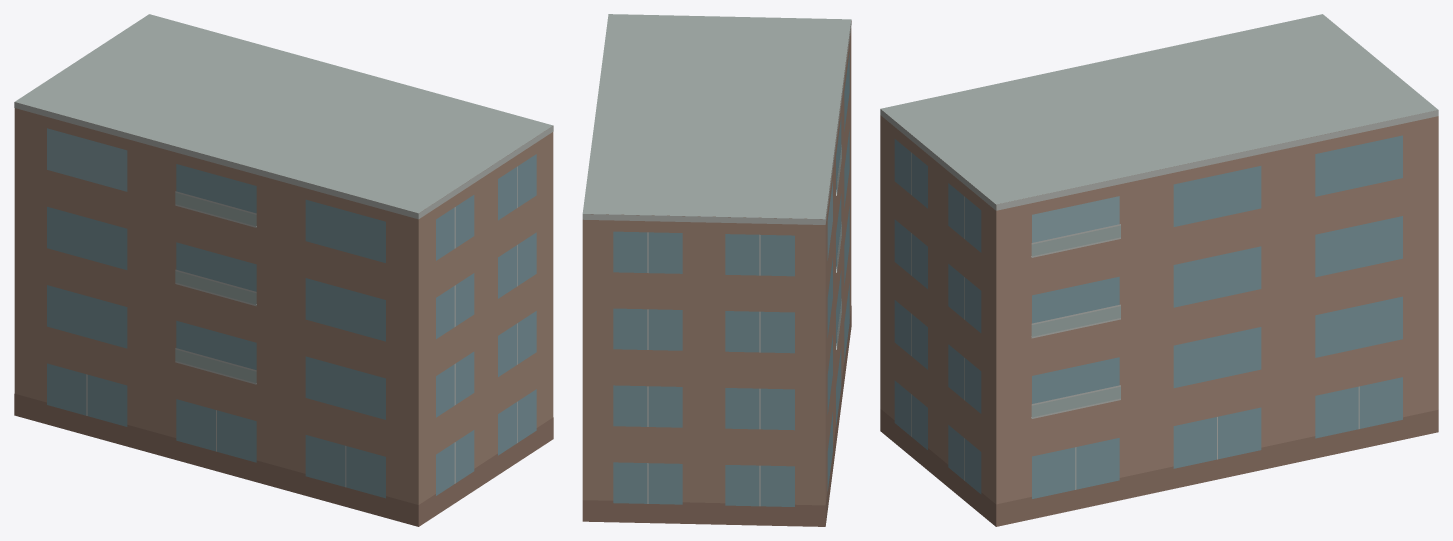
File: survey-upis-32707552.glb
3 views of the same model, side by side, from view 1: azimuth 30°, elevation 25°; view 2: azimuth 150°, elevation 25°; view 3: azimuth 270°, elevation 25° (orthographic). The views are drawn at different scales.
Parts seen in each view (by area): view 1: survey-upis-32707552.tmp; view 2: survey-upis-32707552.tmp; view 3: survey-upis-32707552.tmp.
Part boxes in pixels (bbox=[...]): survey-upis-32707552.tmp: bbox=[14, 14, 553, 526]; survey-upis-32707552.tmp: bbox=[582, 14, 851, 526]; survey-upis-32707552.tmp: bbox=[880, 14, 1438, 526].
Size of the model in its own units: 16.12 by 12.7 by 19.95.
